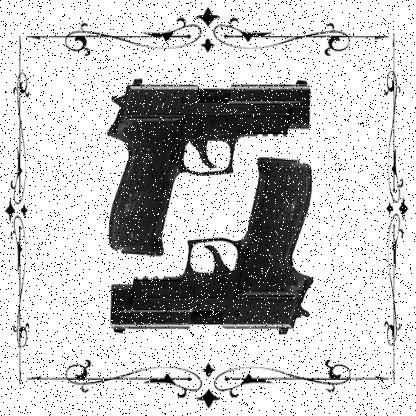pistol: (111, 156, 312, 334), (108, 78, 311, 254)
